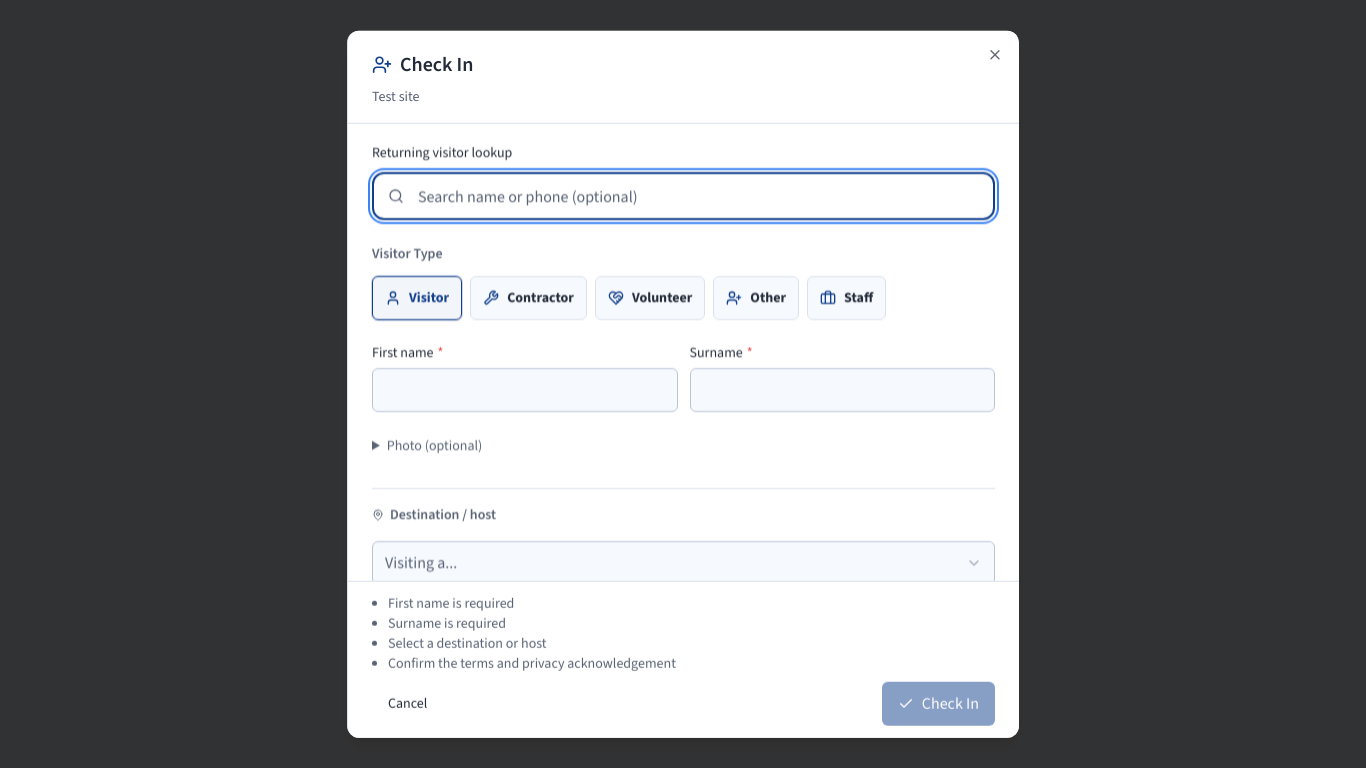
it: staff sheet mocked save and accessible interactions › waits for confirmed save and prevents duplicate rapid submissions
Click the button "Staff" at (847,298), box [807,276,886,320]
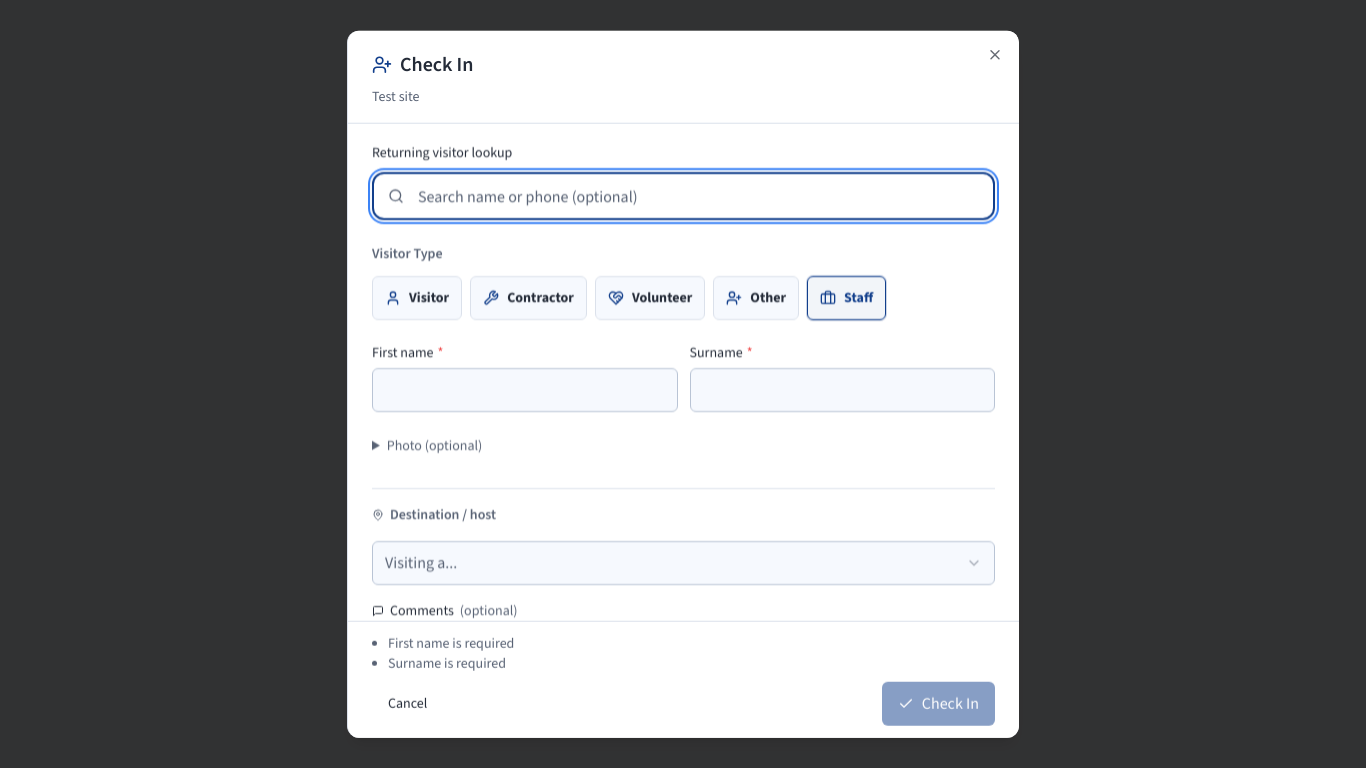
Type "Ann" into the field labelled "First name" at (525,390), box [372,368,678,412]
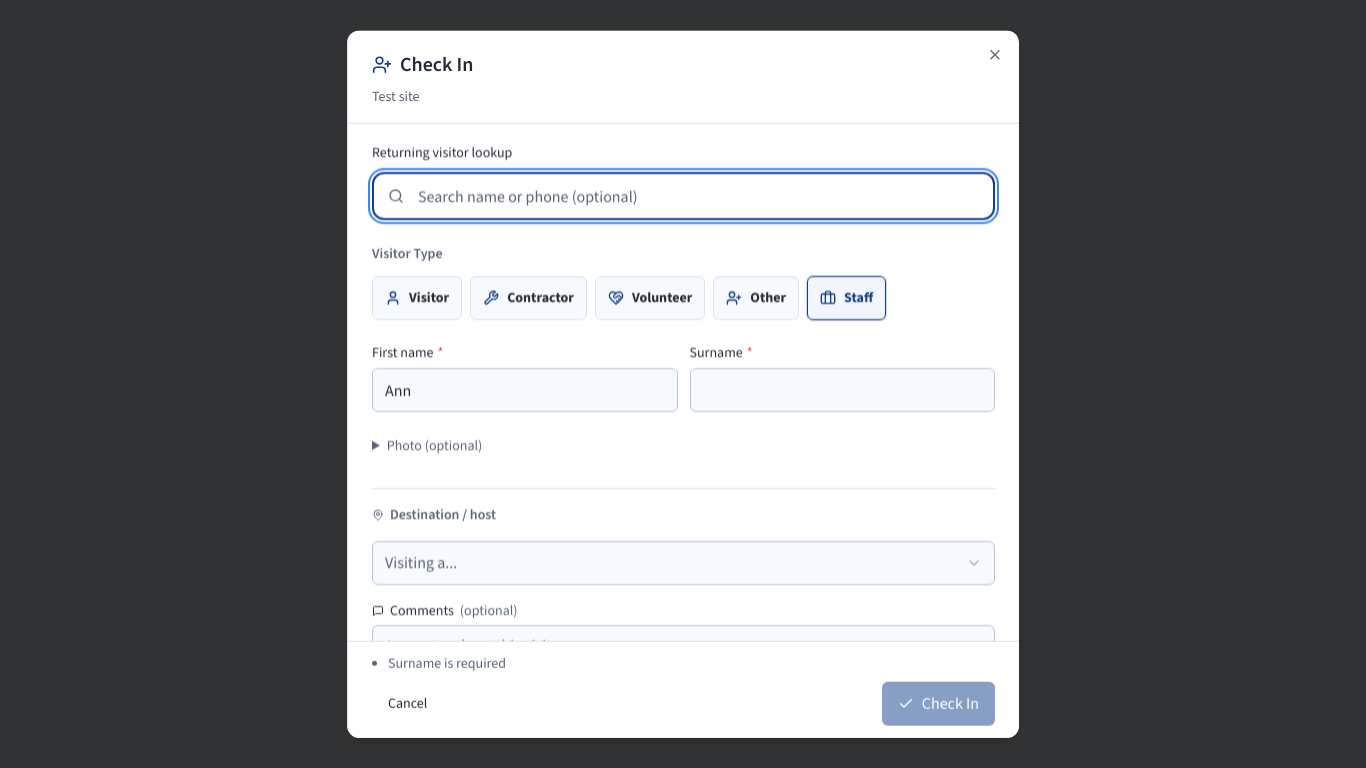
Type "Lee" into the field labelled "Surname" at (842,390), box [690,368,995,412]
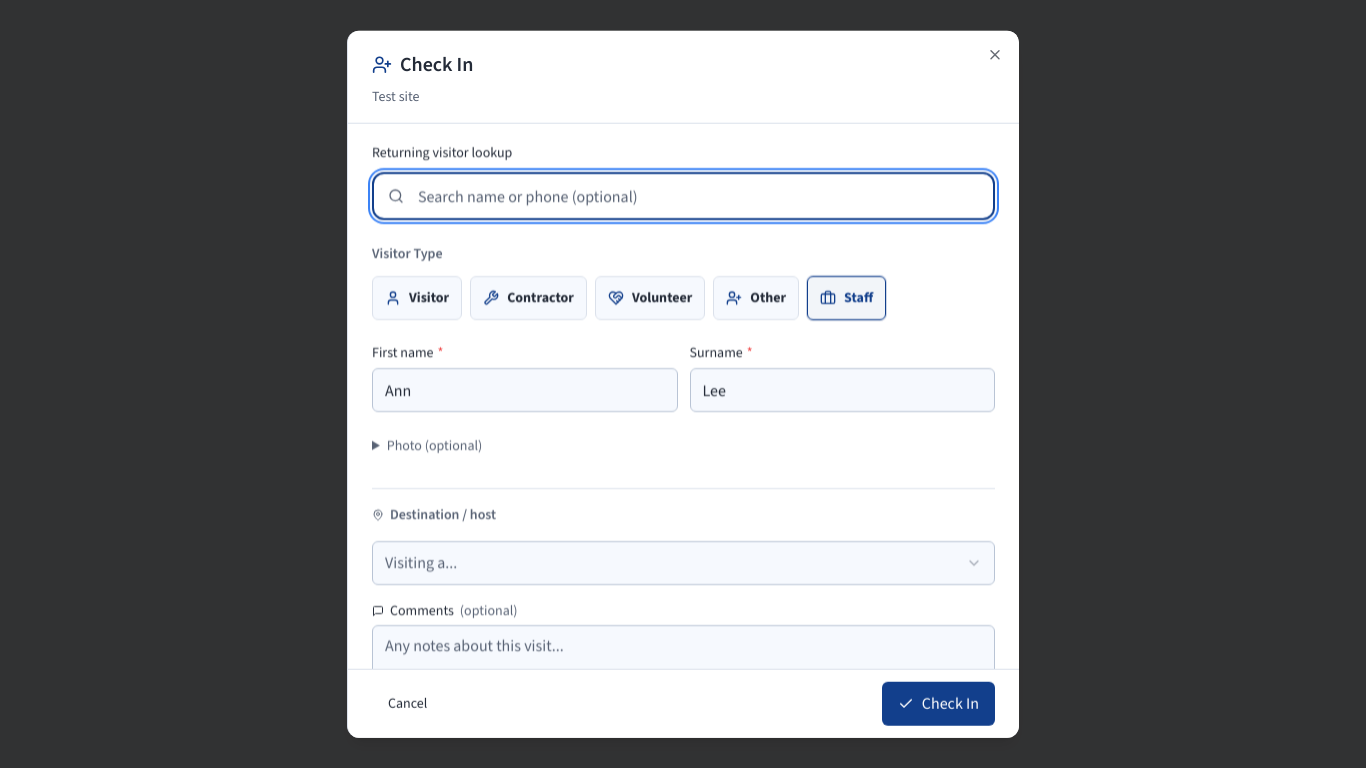
expect the button "Check In" is enabled: met
Click the button "Check In" at (938,703), box [882,681,995,725]
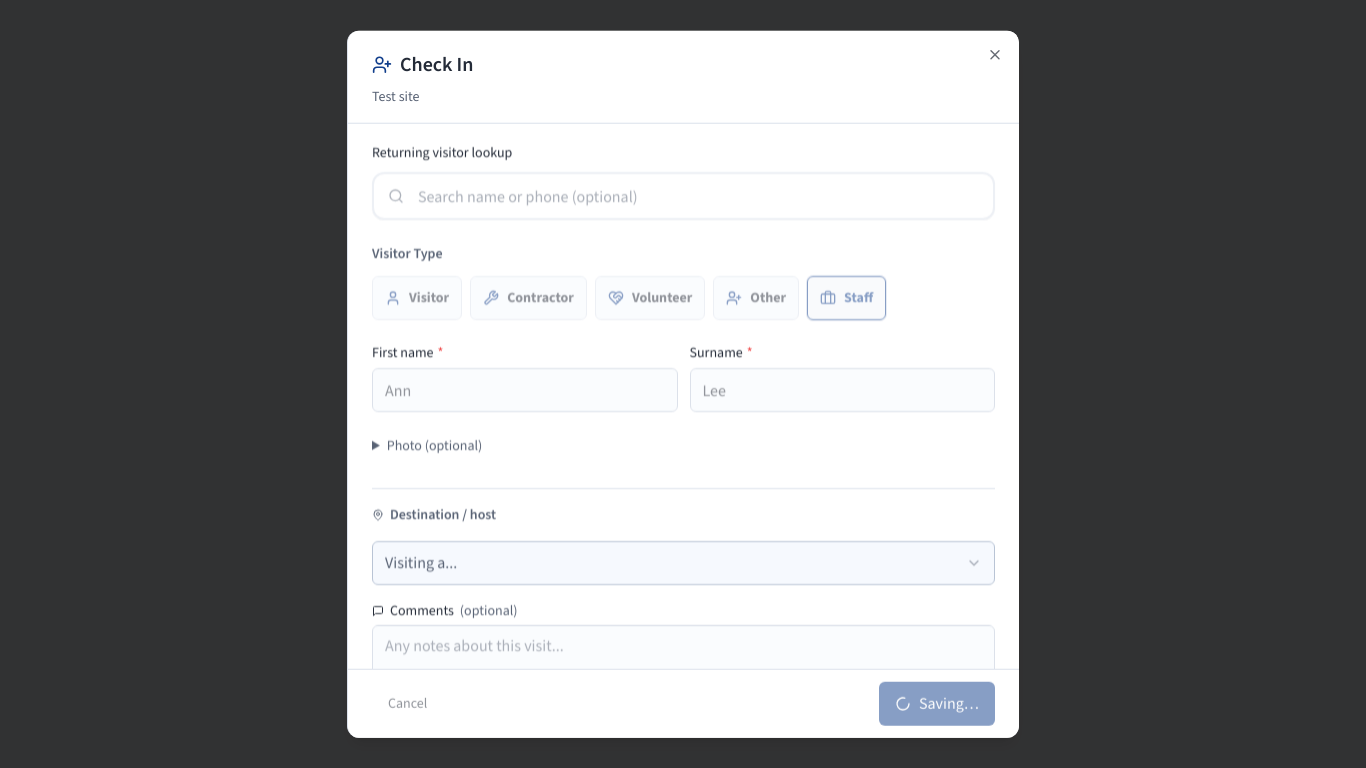
Click the button named "Check In" at (937,703), box [879,681,995,725]
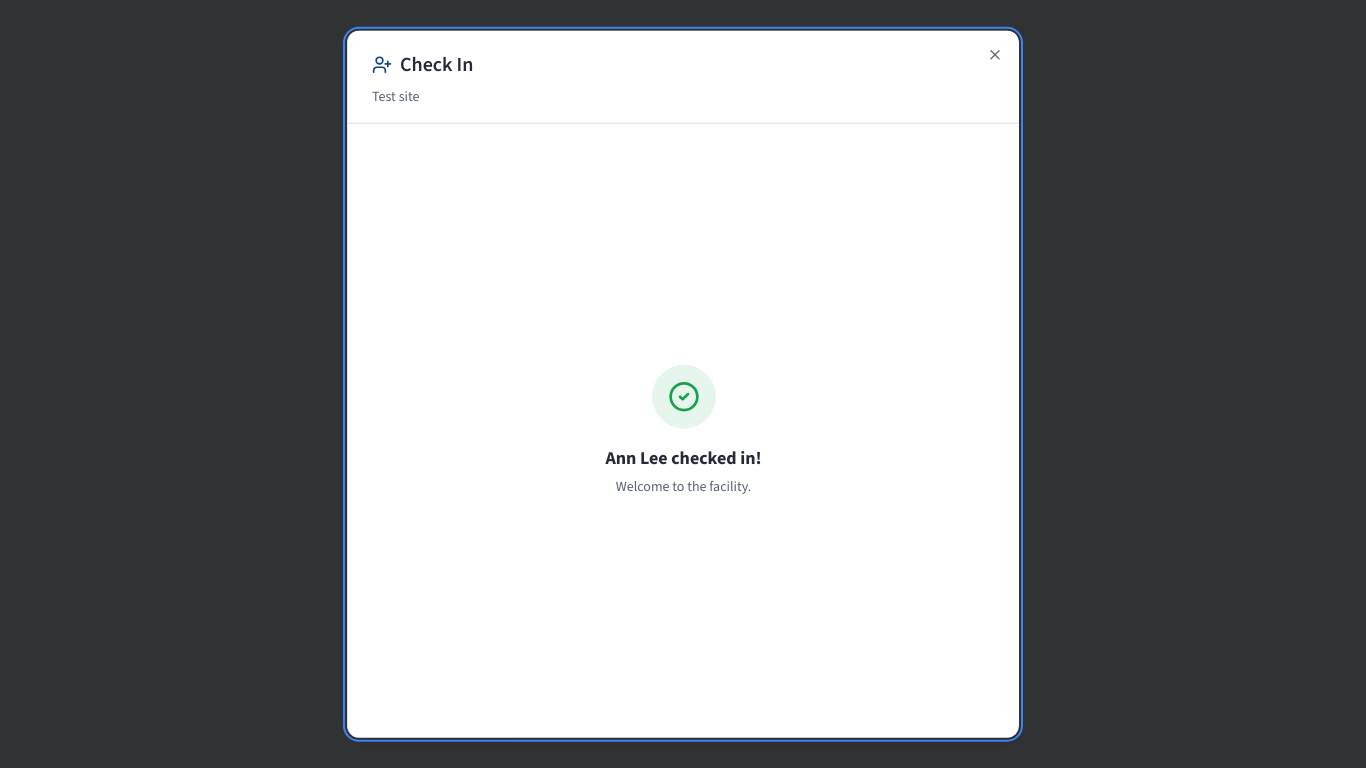
expect the text "Ann Lee checked in!" is shown: met, box [605,444,762,472]
